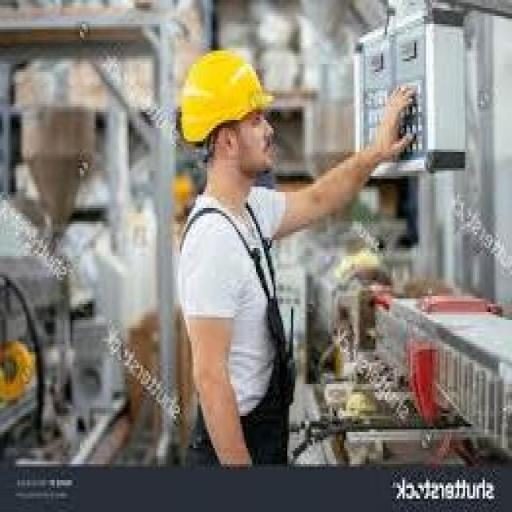helmet: (168, 43, 283, 155)
